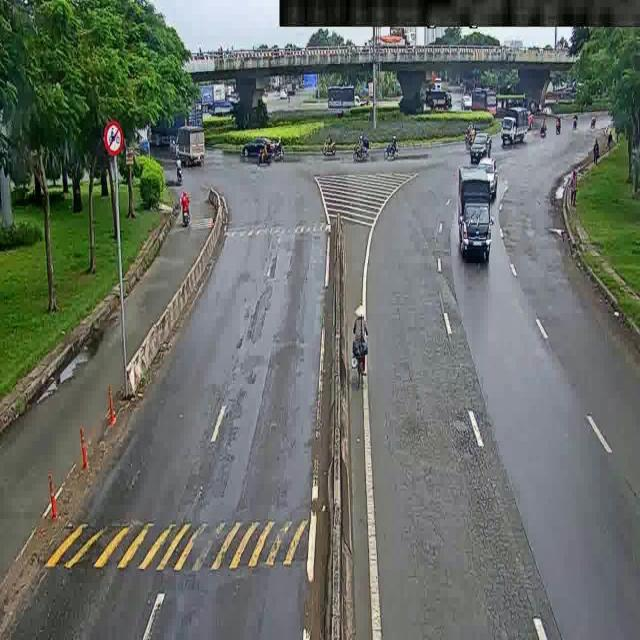bicycle: (347, 300, 382, 382), (173, 191, 197, 248), (166, 158, 188, 198)
car: (241, 129, 279, 172)
motorbike: (317, 132, 338, 158), (377, 134, 398, 158), (563, 110, 585, 132), (552, 112, 571, 136), (351, 135, 368, 160), (538, 116, 554, 140)
truck: (457, 166, 495, 269), (150, 97, 208, 143), (163, 127, 222, 164), (498, 104, 534, 156), (421, 88, 464, 116), (318, 85, 359, 109)
